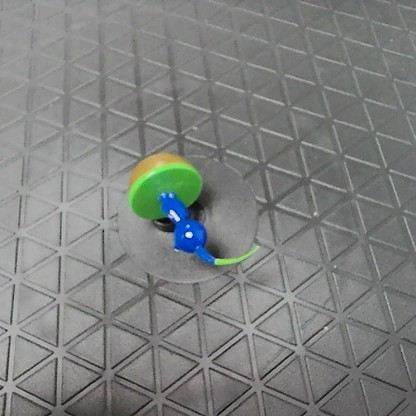leafairy: (121, 148, 264, 273)
